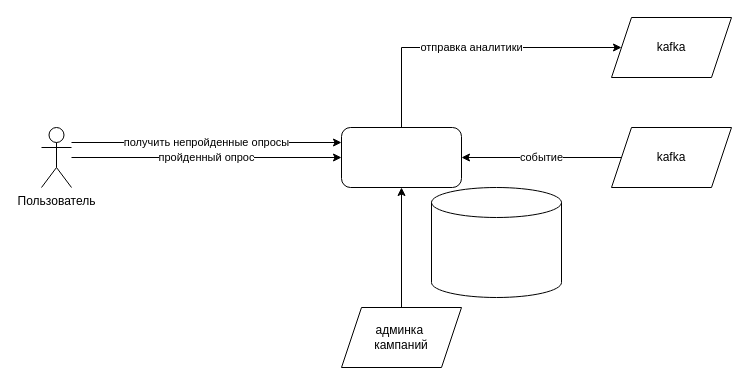
The diagram is 749 pixels wide and 385 high, and some of its shapes have lost their labels. The box of each missing label's shape, as (x1, y1, x2, y2) in pixels:
- survey_type - campaign - survey - customer_feedback - daily_metrics: (430, 186, 562, 298)
feedback: (340, 126, 462, 188)
